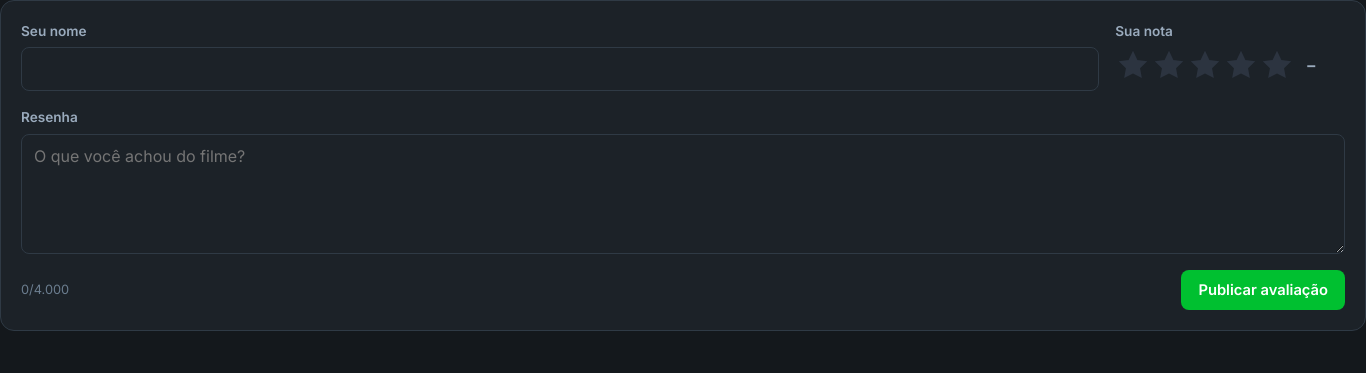
Test: ReviewForm › mostra erros de validação devolvidos pela API no campo certo
Type "Ana" into the field labelled "Seu nome" at (560, 69), box [21,47,1099,91]
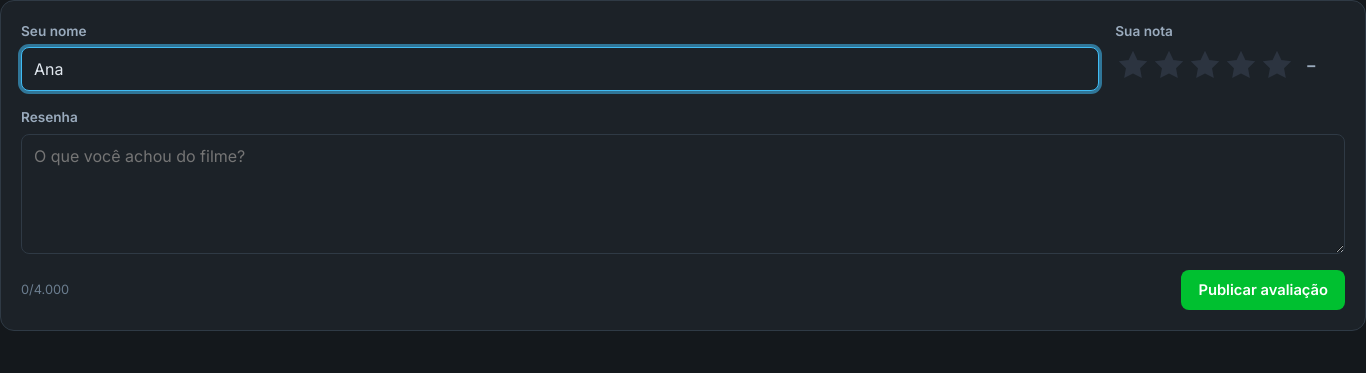
Click the slider at (1230, 65), box [1115,47,1345,83]
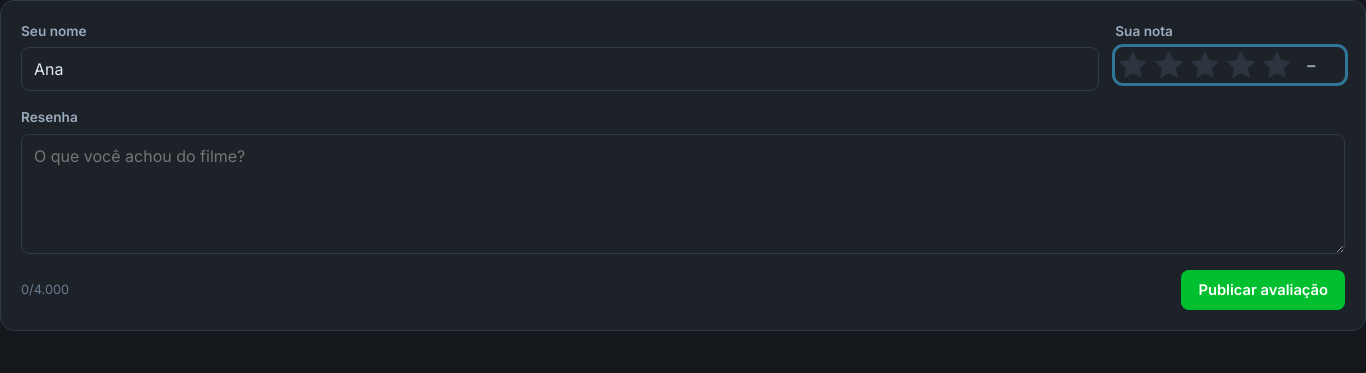
Type keys "5"
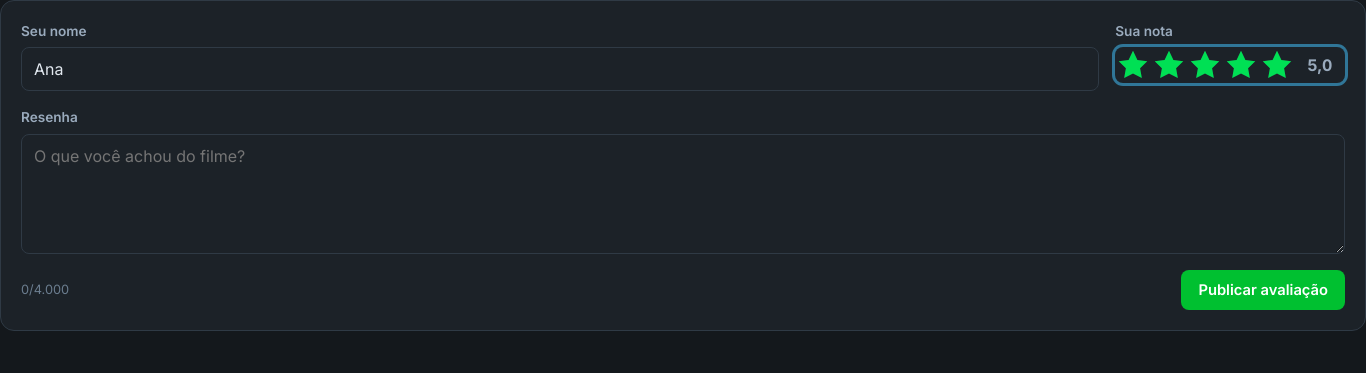
Type "Texto" into the text box labelled "Resenha" at (683, 194), box [21,134,1345,254]
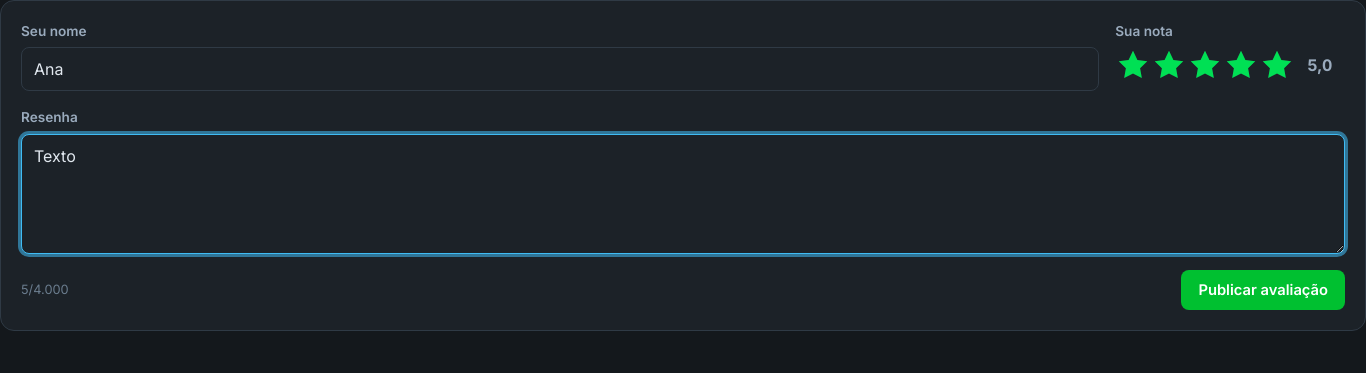
Click the button "Publicar avaliação" at (1263, 290), box [1181,270,1345,310]
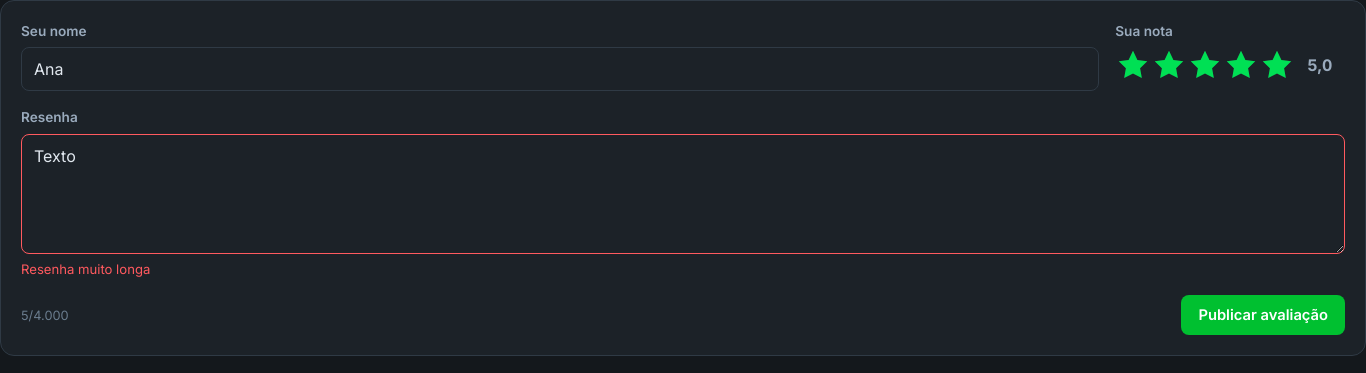
Result: the text "Resenha muito longa" is shown at [21,261,150,277]
